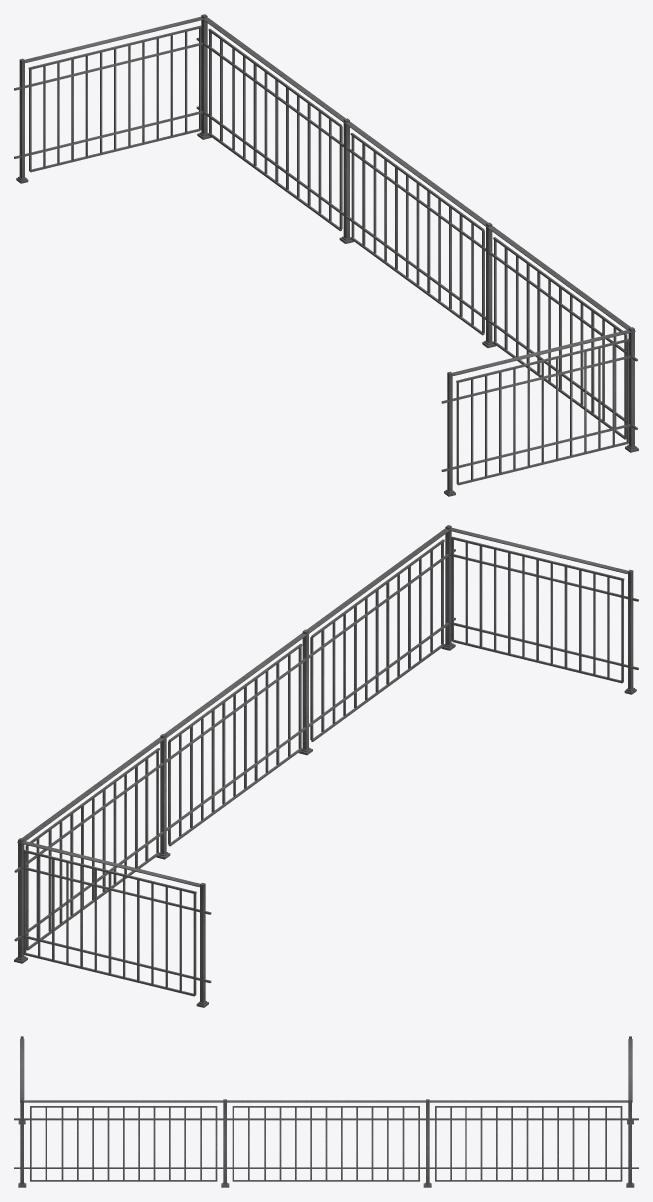
The model's file is fence.FBX.
3 views of the same model, one above another, from view 1: azimuth 30°, elevation 25°; view 2: azimuth 150°, elevation 25°; view 3: azimuth 270°, elevation 25° (orthographic). The views are drawn at different scales.
Visible parts, largest first — view 1: fence; view 2: fence; view 3: fence.
Boxes of the visible parts, x1,y1,x2,y2 form: fence: (14, 14, 638, 496); fence: (14, 525, 638, 1007); fence: (14, 1036, 638, 1187).
Size of the model in its own units: 2395 by 9393 by 1431.
Materials: 1 (1 with a texture image).
